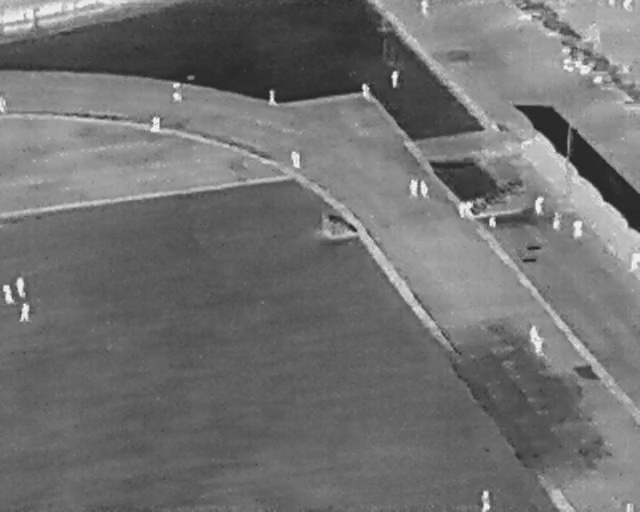DontCare: (557, 44, 607, 88)
Person: (170, 81, 185, 102), (2, 283, 15, 306), (15, 276, 27, 299), (480, 489, 492, 512), (534, 195, 546, 217), (572, 219, 582, 240), (529, 325, 541, 342), (552, 211, 562, 231), (151, 114, 161, 133), (20, 302, 29, 323), (290, 151, 301, 168), (420, 179, 429, 199), (268, 89, 278, 106), (361, 83, 370, 101), (465, 201, 474, 219), (409, 179, 418, 197), (420, 0, 430, 15), (391, 70, 399, 88), (488, 216, 497, 231), (458, 201, 465, 219), (0, 96, 6, 112)
